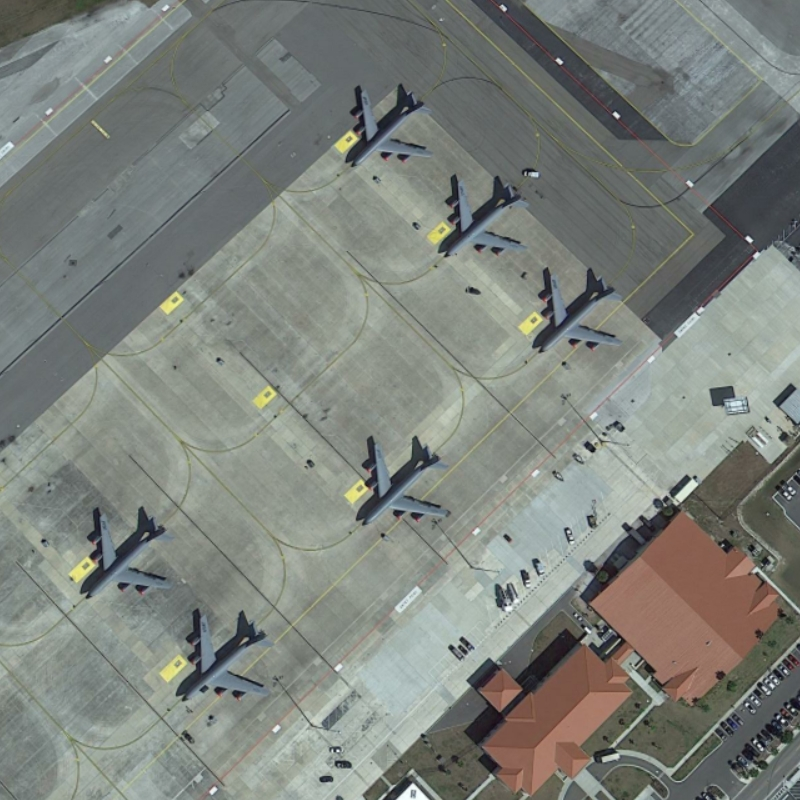A14: (178, 613, 276, 709), (79, 511, 176, 604), (356, 440, 451, 533), (439, 177, 532, 264), (533, 269, 625, 356), (347, 84, 434, 172)
